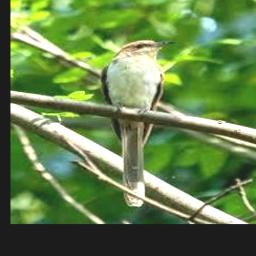Cuckoo: (101, 40, 177, 204)
